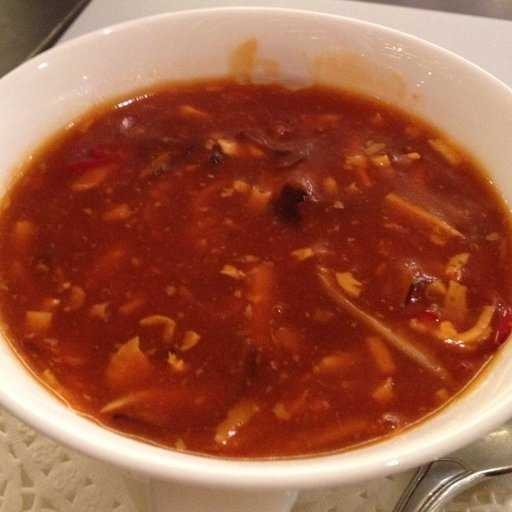soup: (1, 50, 506, 451)
